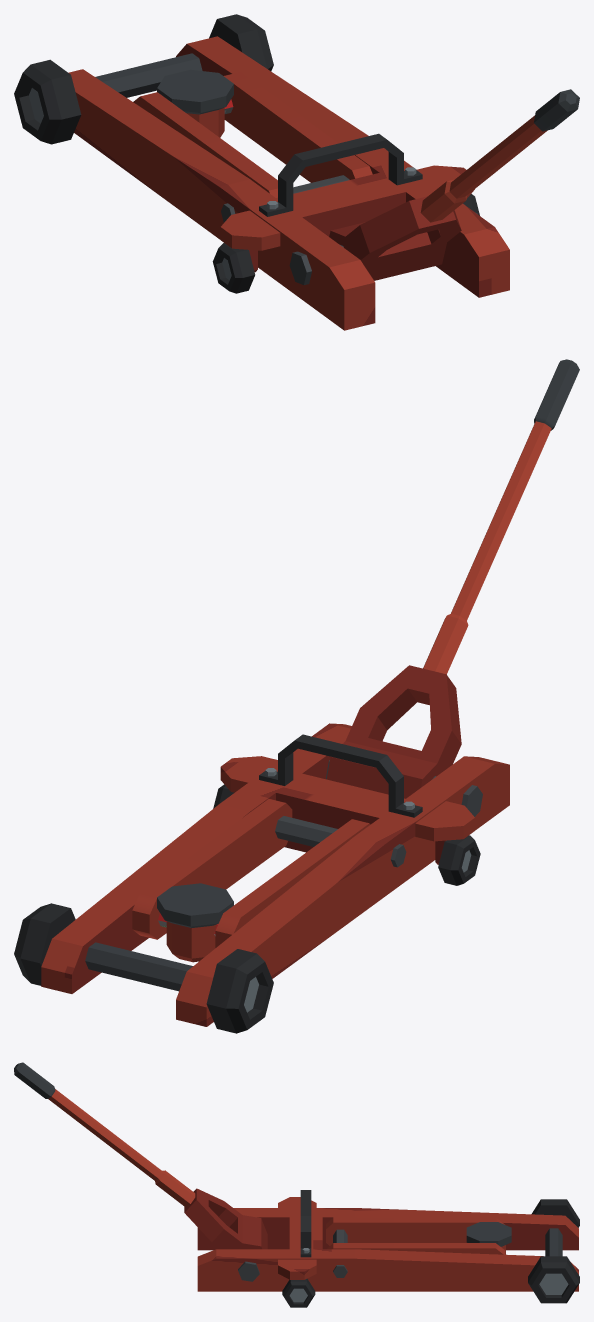
Rendered from SM_Prop_CarJack_01_Preset.fbx.
3 views of the same model, one above another, from view 1: azimuth 30°, elevation 25°; view 2: azimuth 150°, elevation 25°; view 3: azimuth 270°, elevation 25° (orthographic). The views are drawn at different scales.
Parts seen in each view (by area): view 1: SM_Prop_CarJack_01_Preset; view 2: SM_Prop_CarJack_01_Preset; view 3: SM_Prop_CarJack_01_Preset.
Boxes of the visible parts, x1,y1,x2,y2 form: SM_Prop_CarJack_01_Preset: [14, 14, 579, 330]; SM_Prop_CarJack_01_Preset: [14, 359, 579, 1033]; SM_Prop_CarJack_01_Preset: [14, 1062, 579, 1307].
Bounding box in the file's own units: 49.66 × 63.8 × 158.
